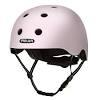helmet: (3, 2, 97, 65)
